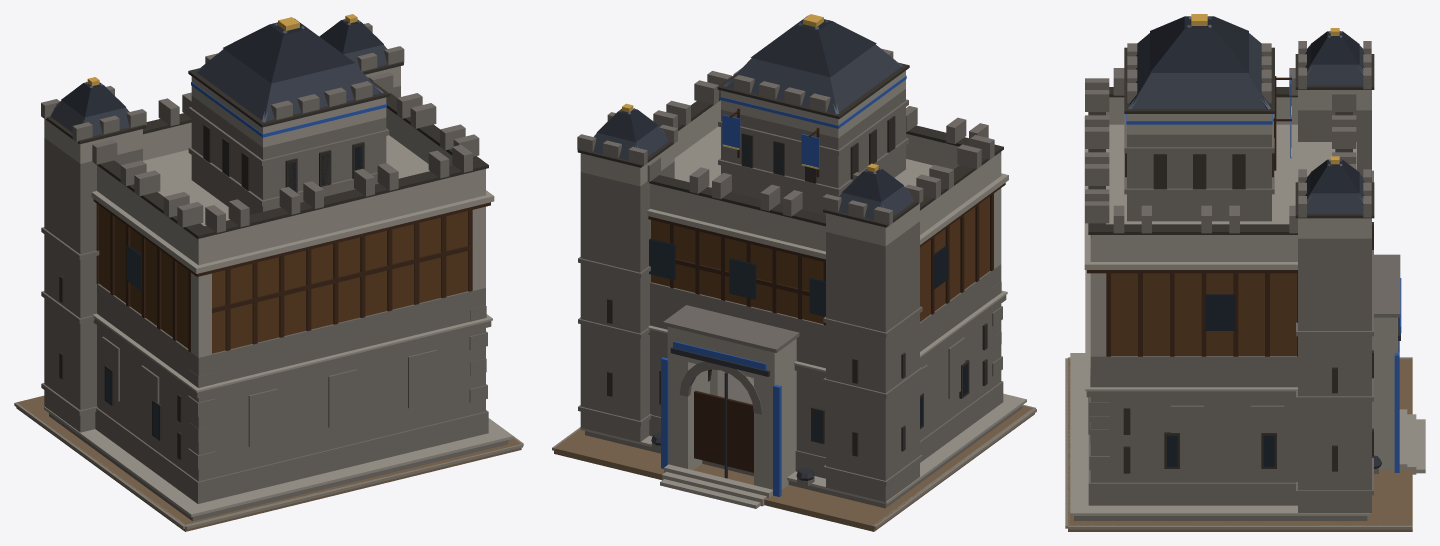
File: 城镇大厅二本_手游_中.glb
3 renders of one model, left to right at view 1: azimuth 30°, elevation 25°; view 2: azimuth 150°, elevation 25°; view 3: azimuth 270°, elevation 25°, orthographic. The views are drawn at different scales.
Parts seen in each view (by area): view 1: KH-主体, KH-自发光, KH-team; view 2: KH-主体, KH-team, KH-自发光; view 3: KH-主体, KH-自发光, KH-team.
Boxes of the visible parts, x1,y1,x2,y2 form: KH-主体: (14, 14, 523, 531); KH-自发光: (105, 146, 362, 437); KH-team: (191, 82, 386, 241); KH-主体: (552, 14, 1036, 531); KH-team: (661, 75, 1000, 496); KH-自发光: (649, 136, 968, 441); KH-主体: (1065, 14, 1425, 531); KH-自发光: (1167, 294, 1274, 466); KH-team: (1091, 74, 1401, 472).
Bounding box in the file's own units: 13.26 × 15.71 × 11.9.
Materials: 4 (2 with a texture image).
